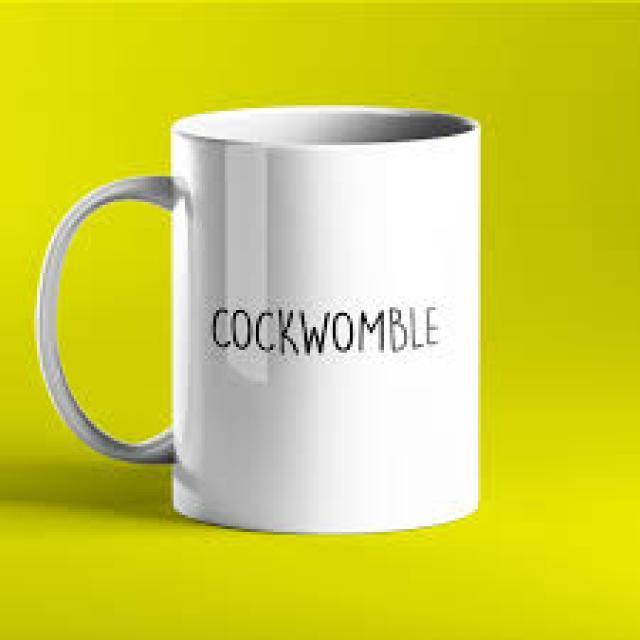taza: (32, 97, 532, 550)
